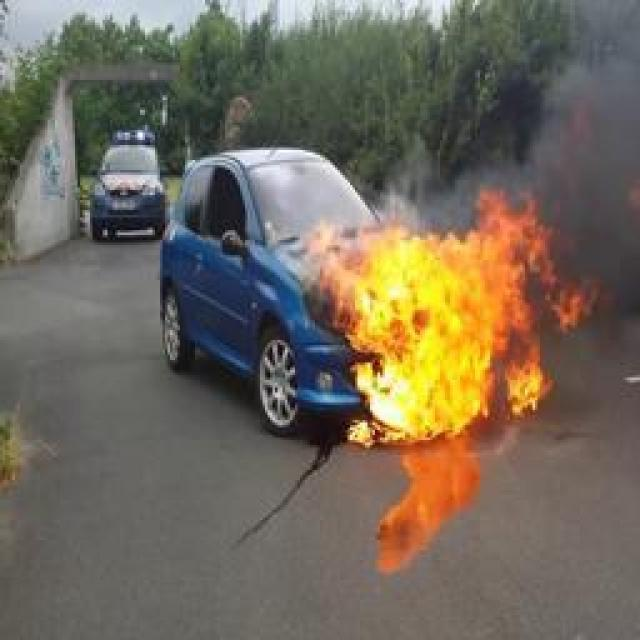Fire: (312, 186, 590, 444)
